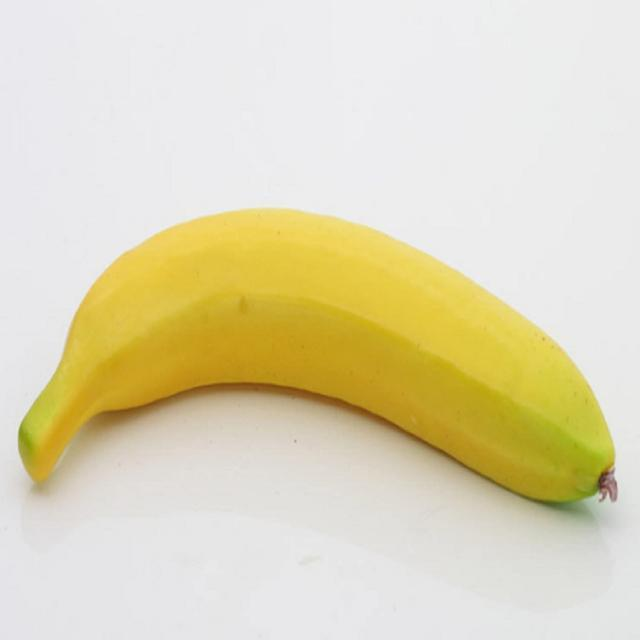Banana: (25, 204, 620, 513)
